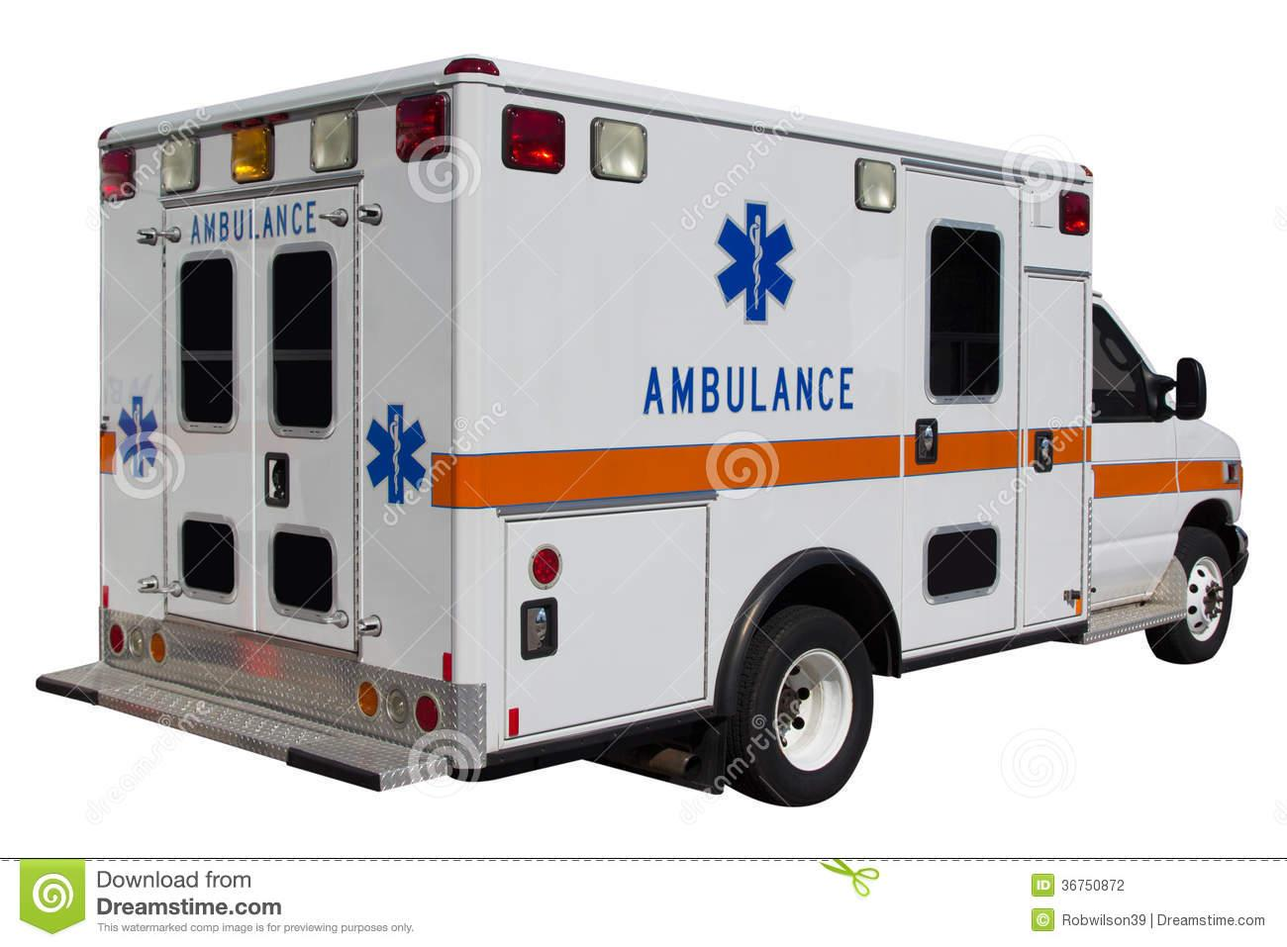Emergency-Vehicles: (31, 69, 1287, 871)
